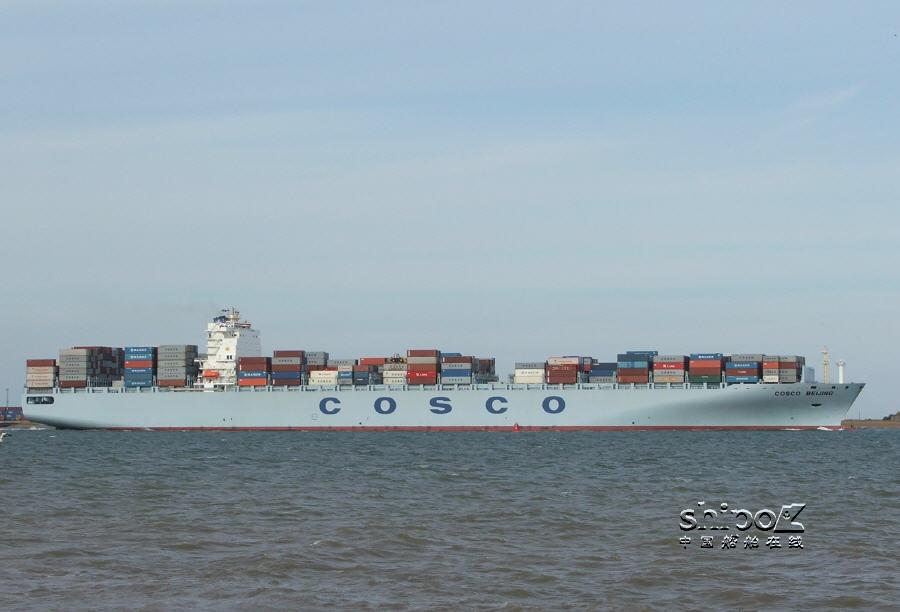Cargoship: (8, 307, 864, 435)
